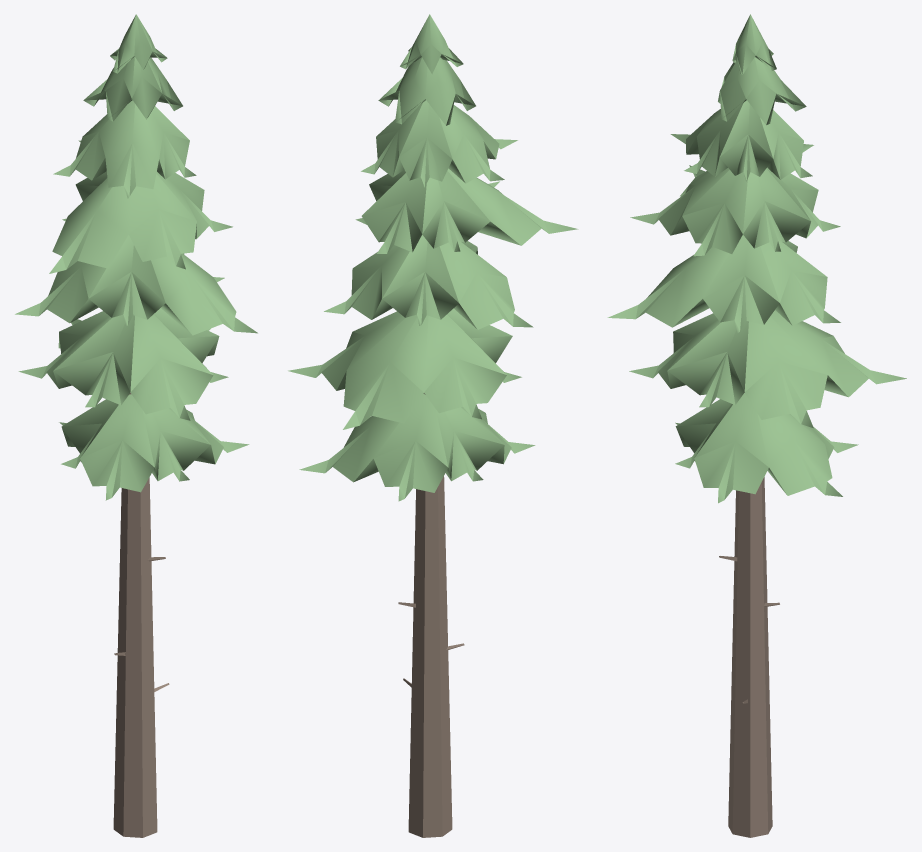
The model's file is tree-pine-a.glb.
The picture shows the model from 3 angles, left to right: view 1: azimuth 30°, elevation 25°; view 2: azimuth 150°, elevation 25°; view 3: azimuth 270°, elevation 25°; orthographic projection.
Visible parts, largest first — view 1: tree-pine-a; view 2: tree-pine-a; view 3: tree-pine-a.
Boxes of the visible parts, left/top/right/bottom form: tree-pine-a: left=15, top=14, right=257, bottom=837; tree-pine-a: left=288, top=14, right=578, bottom=837; tree-pine-a: left=607, top=14, right=906, bottom=837.
Bounding box in the file's own units: 0.2942 × 1 × 0.3346.
